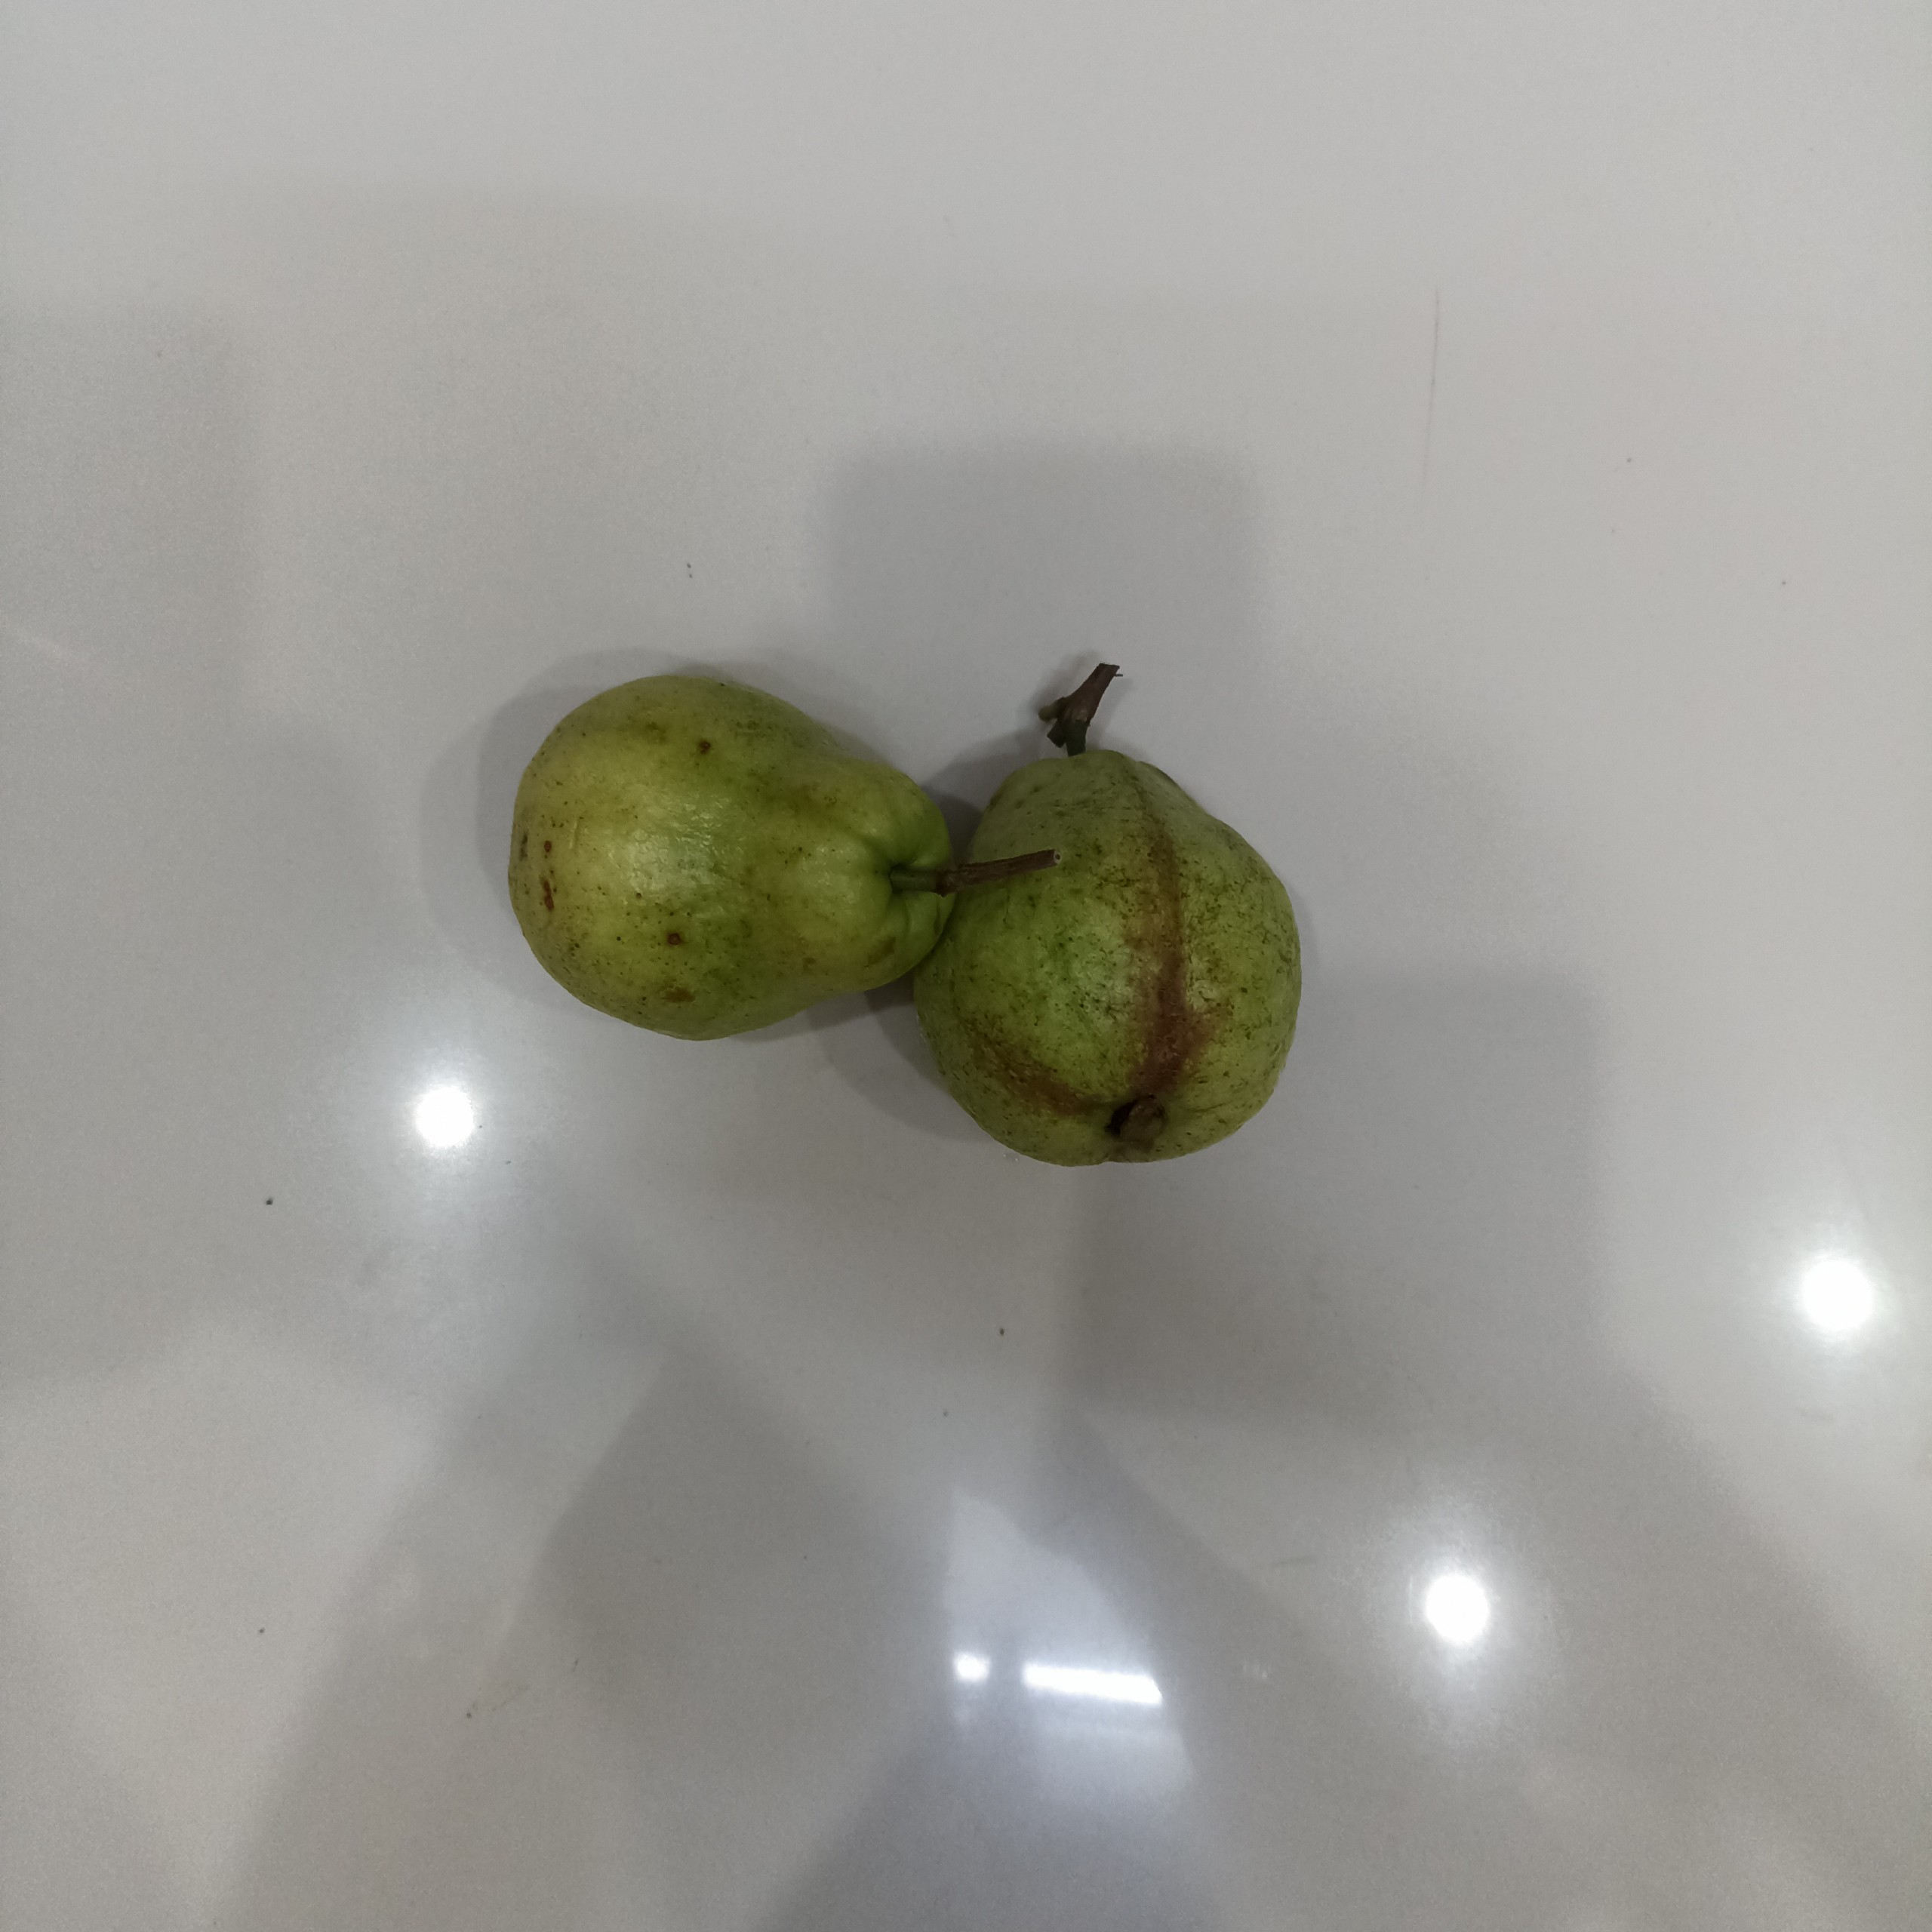Oi: (506, 671, 959, 1046), (924, 717, 1300, 1161)
